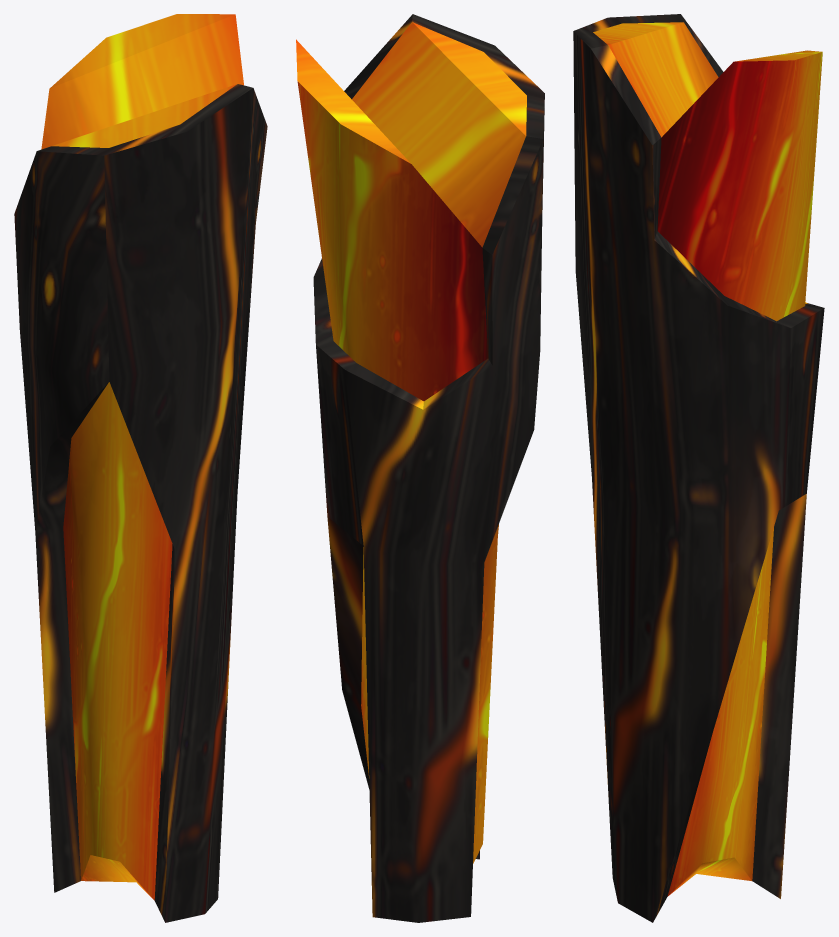
Rendered from p_mesh_hvs_burntforest_branch_medium.fbx.
The picture shows the model from 3 angles, left to right: view 1: azimuth 30°, elevation 25°; view 2: azimuth 150°, elevation 25°; view 3: azimuth 270°, elevation 25°; orthographic projection. The views are drawn at different scales.
Visible parts, largest first — view 1: p_mesh_hvs_burntforest_medium_branch; view 2: p_mesh_hvs_burntforest_medium_branch; view 3: p_mesh_hvs_burntforest_medium_branch.
Boxes of the visible parts, box(x1,y1,x2,y2) form: p_mesh_hvs_burntforest_medium_branch: box(14, 14, 267, 922); p_mesh_hvs_burntforest_medium_branch: box(296, 14, 544, 922); p_mesh_hvs_burntforest_medium_branch: box(573, 14, 824, 922).
Size of the model in its own units: 1.74 by 6.27 by 1.6.
Materials: 1 (1 with a texture image).
